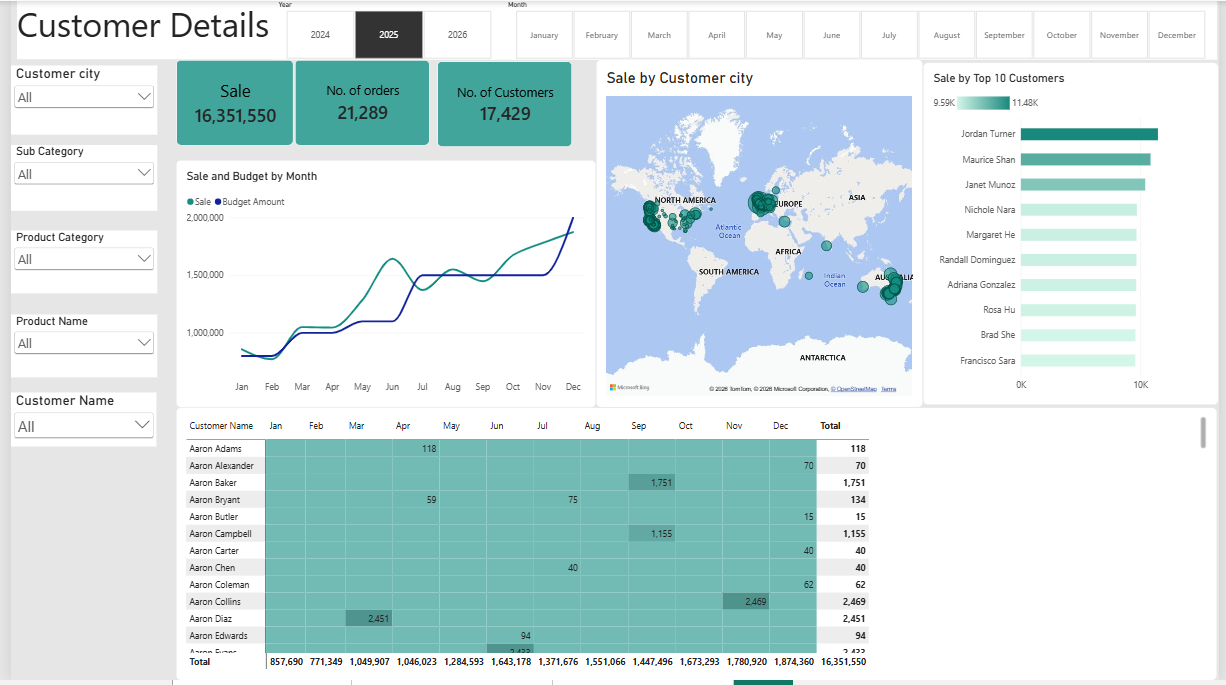

Layout of this report page (visuals, bound fields, positions):
{"tool":"powerbi","page":{"name":"Customer Details","canvas":[1920,1080],"ordinal":1},"visuals":[{"type":"textbox","box":[10,0,280,280],"z":0},{"type":"textbox","box":[10,0,1884.2,92.5],"z":1000},{"type":"slicer","fields":{"Values":["Dim_Customer.Customer city"]},"box":[0,102.5,232.4,110],"z":2000},{"type":"slicer","fields":{"Values":["Dim_Products.Sub Category"]},"box":[0,229.9,232.4,105],"z":3000},{"type":"slicer","fields":{"Values":["Dim_Products.Product Category"]},"box":[0,364.8,232.4,100],"z":4000},{"type":"slicer","fields":{"Values":["Dim_Products.Product Name"]},"box":[0,499.8,232.4,100],"z":5000},{"type":"slicer","fields":{"Values":["Dim_Calendar.Year"]},"box":[372.2,0,410.4,93.1],"z":6000},{"type":"slicer","fields":{"Values":["Dim_Calendar.Month"]},"box":[782.6,0,1135.7,93.1],"z":7000},{"type":"lineChart","title":"Sale and Budget by Month","fields":{"Category":["Dim_Calendar.Monthshort"],"Y":["Key Measures.Sale","Key Measures.Budget Amount"]},"box":[262.5,252.9,668.1,393.7],"z":11000},{"type":"barChart","title":"Sale by Top 10 Customers","fields":{"Category":["Dim_Customer.FullName"],"Y":["Key Measures.Sale"]},"box":[1450.6,97.8,469.8,544.8],"z":12000},{"type":"map","title":"Sale by Customer city","fields":{"Category":["Dim_Customer.Customer city"],"Size":["Key Measures.Sale"]},"box":[930.5,93.1,520.1,553.5],"z":13000},{"type":"pivotTable","fields":{"Columns":["Dim_Calendar.Monthshort"],"Rows":["Dim_Customer.FullName"],"Values":["Key Measures.Sale"]},"box":[0,646.6,1784.7,434.2],"z":14000},{"type":"cardVisual","fields":{"Data":["Key Measures.Sale"]},"box":[262.5,92.5,187.5,137.5],"z":14001},{"type":"cardVisual","fields":{"Data":["Key Measures.No. of orders"]},"box":[450,92.5,215,137.5],"z":14002},{"type":"cardVisual","fields":{"Data":["Key Measures.No. of Customers"]},"box":[677.5,95,215,137.5],"z":14003}]}

Visuals, with their boxes in screenshot pixels (x1, y1, x2, y2), scaled from the page's 1920x1080 canvas onto the 1226x685 screenshot:
textbox: 6/0/185/178
textbox: 6/0/1210/59
slicer - Dim_Customer.Customer city: 0/65/148/135
slicer - Dim_Products.Sub Category: 0/146/148/212
slicer - Dim_Products.Product Category: 0/231/148/295
slicer - Dim_Products.Product Name: 0/317/148/380
slicer - Dim_Calendar.Year: 238/0/500/59
slicer - Dim_Calendar.Month: 500/0/1225/59
"Sale and Budget by Month" lineChart: 168/160/594/410
"Sale by Top 10 Customers" barChart: 926/62/1225/408
"Sale by Customer city" map: 594/59/926/410
pivotTable - Dim_Calendar.Monthshort x Dim_Customer.FullName: 0/410/1140/684
cardVisual - Key Measures.Sale: 168/59/287/146
cardVisual - Key Measures.No. of orders: 287/59/425/146
cardVisual - Key Measures.No. of Customers: 433/60/570/147
